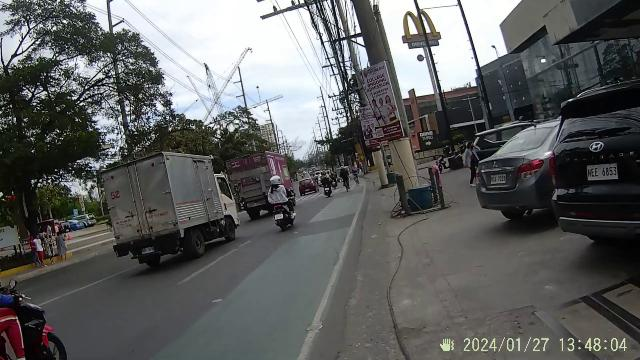car: (100, 152, 242, 260)
utility_post: (363, 46, 441, 212)
